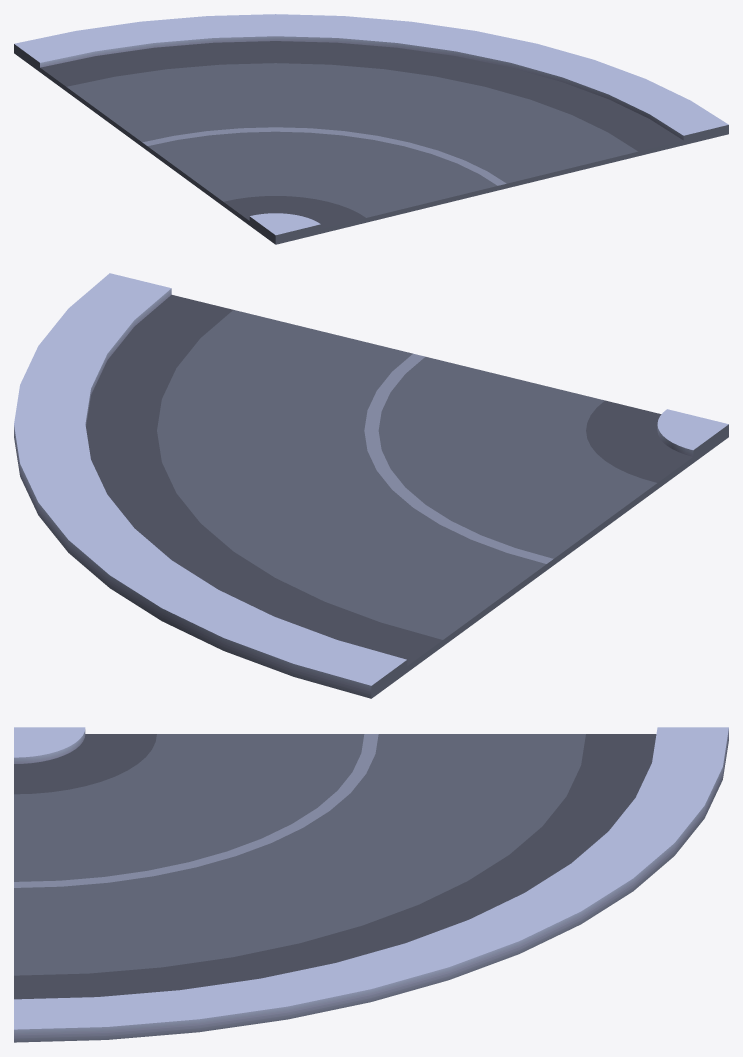
Rendered from road-bend.glb.
3 renders of one model, top to bottom at view 1: azimuth 30°, elevation 25°; view 2: azimuth 150°, elevation 25°; view 3: azimuth 270°, elevation 25°, orthographic. The views are drawn at different scales.
Parts seen in each view (by area): view 1: road-bend; view 2: road-bend; view 3: road-bend.
Boxes of the visible parts, x1,y1,x2,y2 form: road-bend: (14, 14, 728, 244); road-bend: (14, 273, 728, 698); road-bend: (14, 727, 728, 1042).
Size of the model in its own units: 8 by 0.1602 by 8.
Materials: 1 (1 with a texture image).
